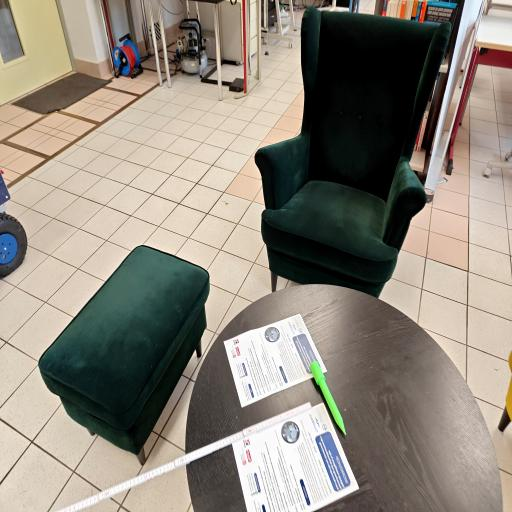Probe-Detection: (310, 361, 346, 435)
